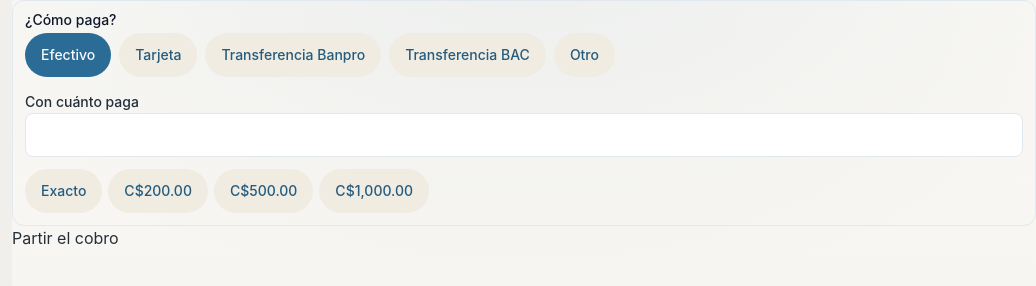
PosPaymentRows › un medio con requiresReference muestra el campo de referencia
This screenshot has width=1036, height=286.
Click the button "Transferencia Banpro" at (293, 55), box [206,33,381,77]
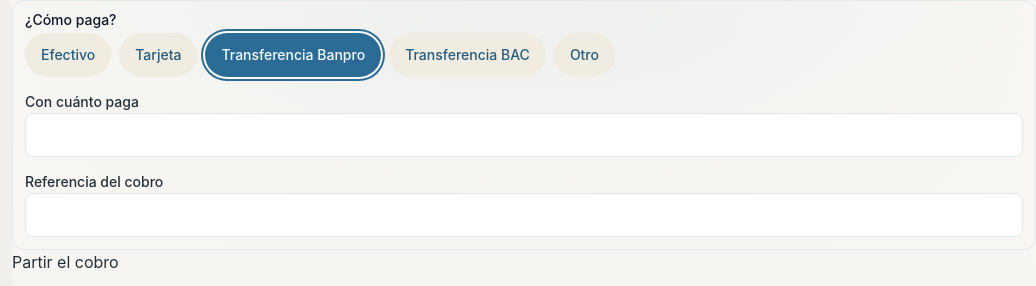
Expected: the field labelled "Referencia del cobro" is shown, [25,193,1023,237]
